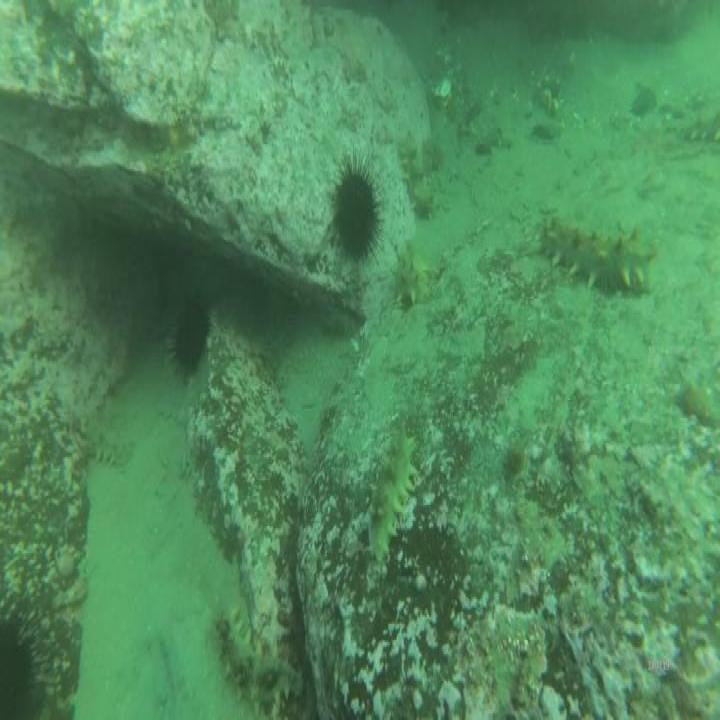echinus: (331, 162, 381, 270), (173, 290, 212, 373)
holothurian: (537, 208, 659, 304), (367, 418, 421, 564), (397, 124, 437, 222), (391, 234, 433, 314), (84, 421, 131, 473)
